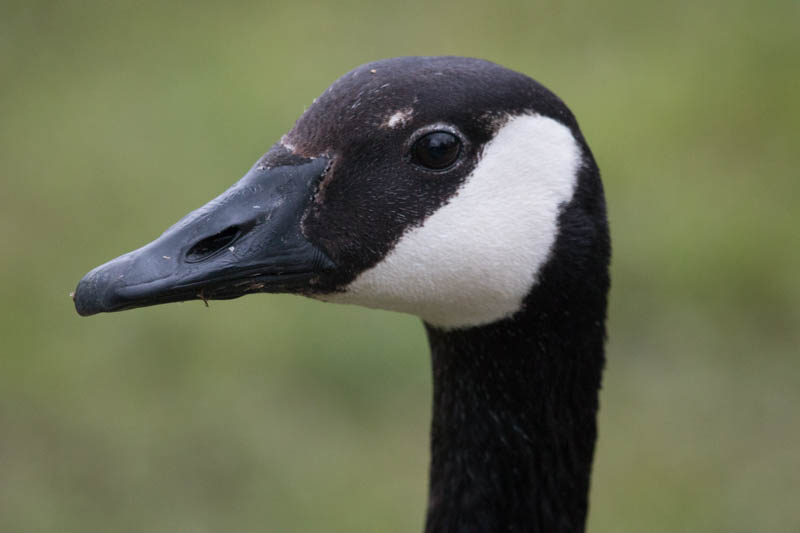goose-head: (71, 56, 610, 329)
